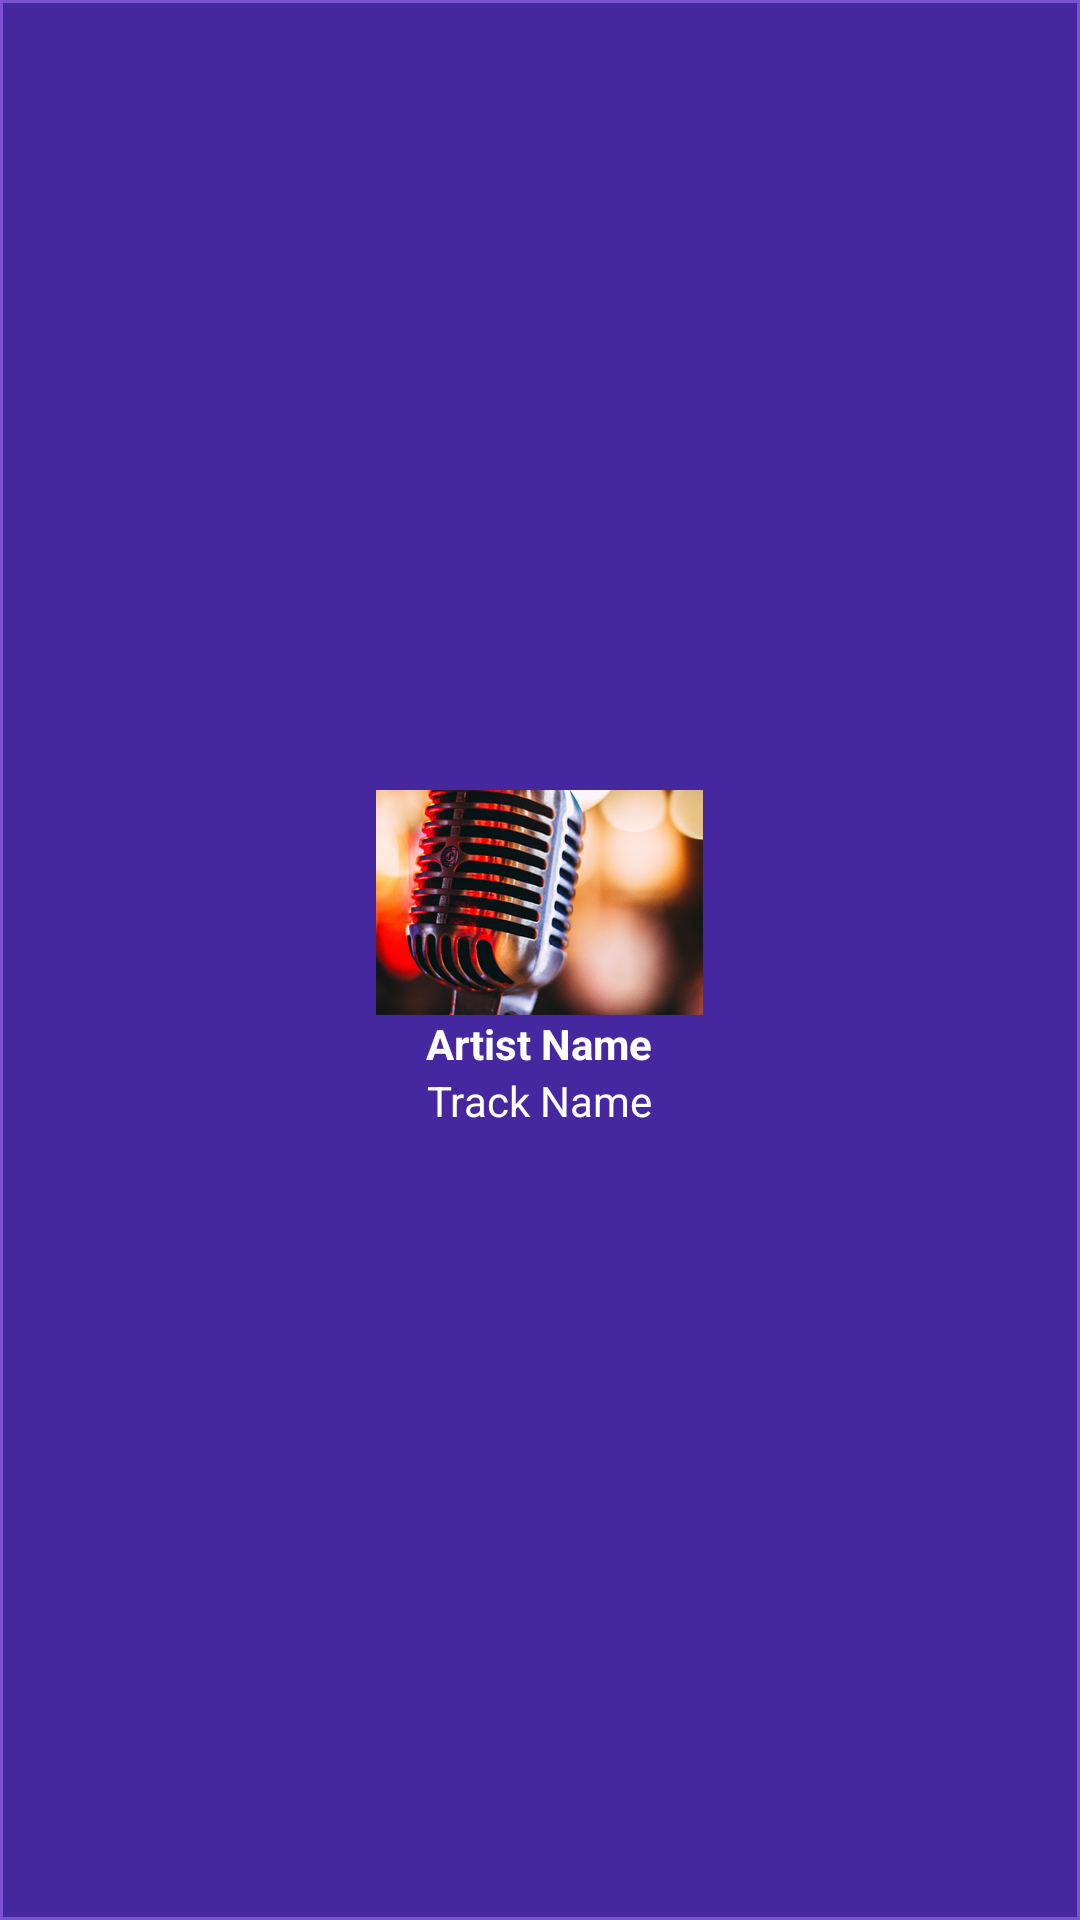

Named icons in this screenshot (1080x1920) and their bounding boxes, (x1, y1, x2, y2):
music: (376, 790, 703, 1015)
